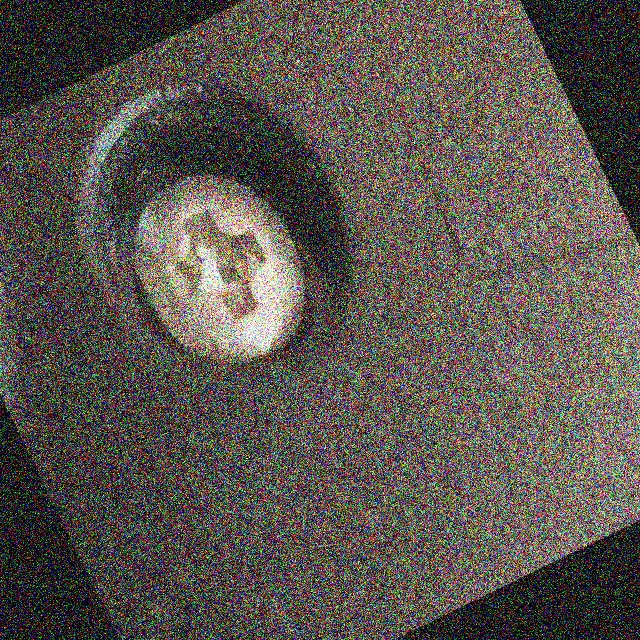phillips: (99, 138, 338, 397)
